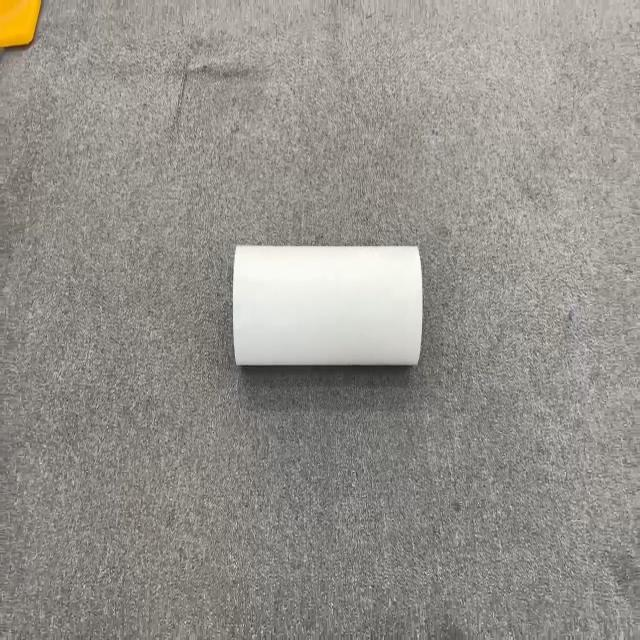coral: (231, 243, 423, 368)
